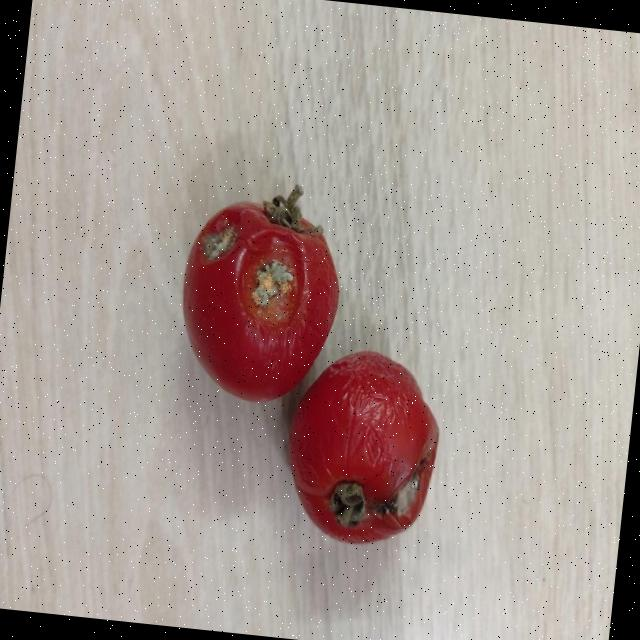Rotten: (172, 196, 350, 407), (275, 341, 450, 550)
